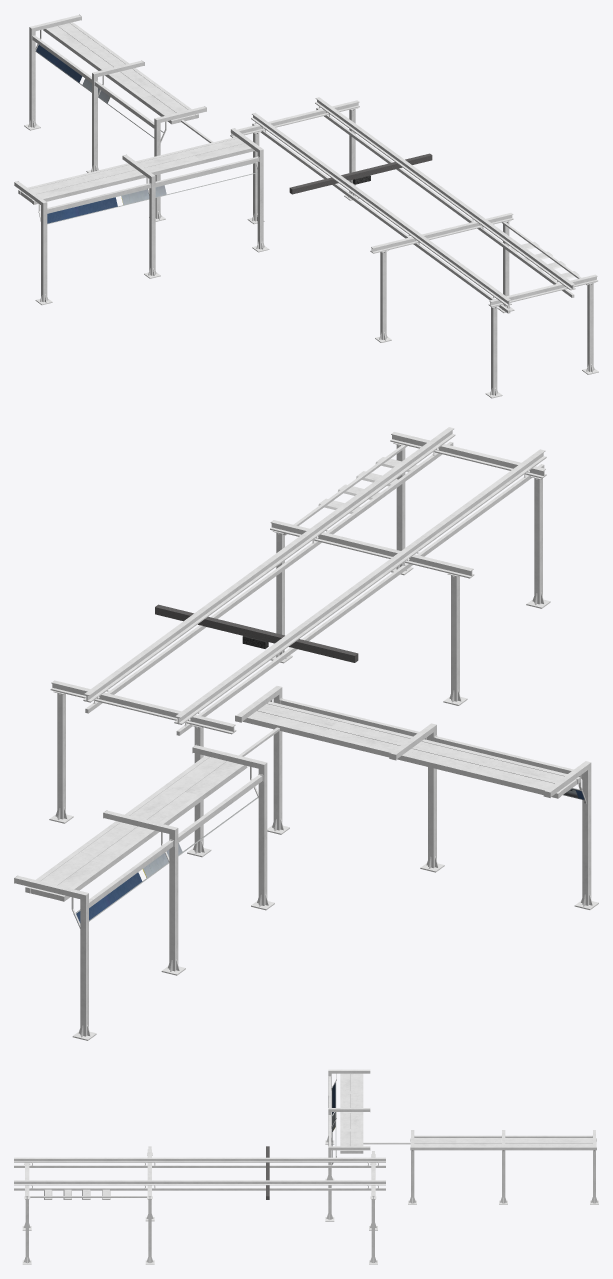
The model's file is CaoZuoJia.FBX.
The picture shows the model from 3 angles, top to bottom: view 1: azimuth 30°, elevation 25°; view 2: azimuth 150°, elevation 25°; view 3: azimuth 270°, elevation 25°; orthographic projection. The views are drawn at different scales.
Visible parts, largest first — view 1: LT_CaoZuoJia29, LT_CaoZuoJia25, LT_CaoZuoJia28, LT_CaoZuoJia26, LT_CaoZuoJia27, LT_CaoZuoJia33, LT_CaoZuoJia39, LT_CaoZuoJia34, LT_CaoZuoJia53, LT_CaoZuoJia35, LT_CaoZuoJia24, LT_CaoZuoJia36 (+12 smaller); view 2: LT_CaoZuoJia25, LT_CaoZuoJia29, LT_CaoZuoJia28, LT_CaoZuoJia27, LT_CaoZuoJia26, LT_CaoZuoJia39, LT_CaoZuoJia34, LT_CaoZuoJia53, LT_CaoZuoJia23, LT_CaoZuoJia22, LT_CaoZuoJia35, LT_CaoZuoJia24 (+13 smaller); view 3: LT_CaoZuoJia25, LT_CaoZuoJia29, LT_CaoZuoJia52, LT_CaoZuoJia47, LT_CaoZuoJia48, LT_CaoZuoJia49, LT_CaoZuoJia28, LT_CaoZuoJia36, LT_CaoZuoJia35, LT_CaoZuoJia27, LT_CaoZuoJia34, LT_CaoZuoJia26 (+7 smaller).
Boxes of the visible parts, <box> form: LT_CaoZuoJia29: <box>379,191,575,313</box>; LT_CaoZuoJia25: <box>251,97,446,219</box>; LT_CaoZuoJia28: <box>370,213,514,342</box>; LT_CaoZuoJia26: <box>485,274,598,398</box>; LT_CaoZuoJia27: <box>230,100,359,224</box>; LT_CaoZuoJia33: <box>47,162,257,224</box>; LT_CaoZuoJia39: <box>18,163,144,204</box>; LT_CaoZuoJia34: <box>136,137,254,177</box>; LT_CaoZuoJia53: <box>289,153,432,194</box>; LT_CaoZuoJia35: <box>138,138,249,171</box>; LT_CaoZuoJia24: <box>24,14,81,130</box>; LT_CaoZuoJia36: <box>30,165,137,197</box>; LT_CaoZuoJia25: <box>83,560,363,735</box>; LT_CaoZuoJia29: <box>267,427,546,601</box>; LT_CaoZuoJia28: <box>270,520,474,705</box>; LT_CaoZuoJia27: <box>49,680,236,857</box>; LT_CaoZuoJia26: <box>390,432,550,608</box>; LT_CaoZuoJia39: <box>399,739,580,798</box>; LT_CaoZuoJia34: <box>242,701,412,759</box>; LT_CaoZuoJia53: <box>155,604,358,662</box>; LT_CaoZuoJia23: <box>103,810,185,975</box>; LT_CaoZuoJia22: <box>192,744,274,910</box>; LT_CaoZuoJia35: <box>250,704,409,750</box>; LT_CaoZuoJia24: <box>14,875,96,1040</box>; LT_CaoZuoJia25: <box>200,1157,385,1190</box>; LT_CaoZuoJia29: <box>14,1157,199,1190</box>; LT_CaoZuoJia52: <box>505,1138,596,1150</box>; LT_CaoZuoJia47: <box>410,1138,501,1150</box>; LT_CaoZuoJia48: <box>414,1139,500,1146</box>; LT_CaoZuoJia49: <box>507,1139,592,1146</box>; LT_CaoZuoJia28: <box>145,1146,155,1264</box>; LT_CaoZuoJia36: <box>343,1073,360,1107</box>; LT_CaoZuoJia35: <box>343,1113,360,1146</box>; LT_CaoZuoJia27: <box>369,1151,377,1264</box>; LT_CaoZuoJia34: <box>340,1112,363,1153</box>; LT_CaoZuoJia26: <box>22,1162,32,1264</box>.
Bounding box in the file's own units: 1174 × 321 × 2338.
3 materials, 2 textured.
